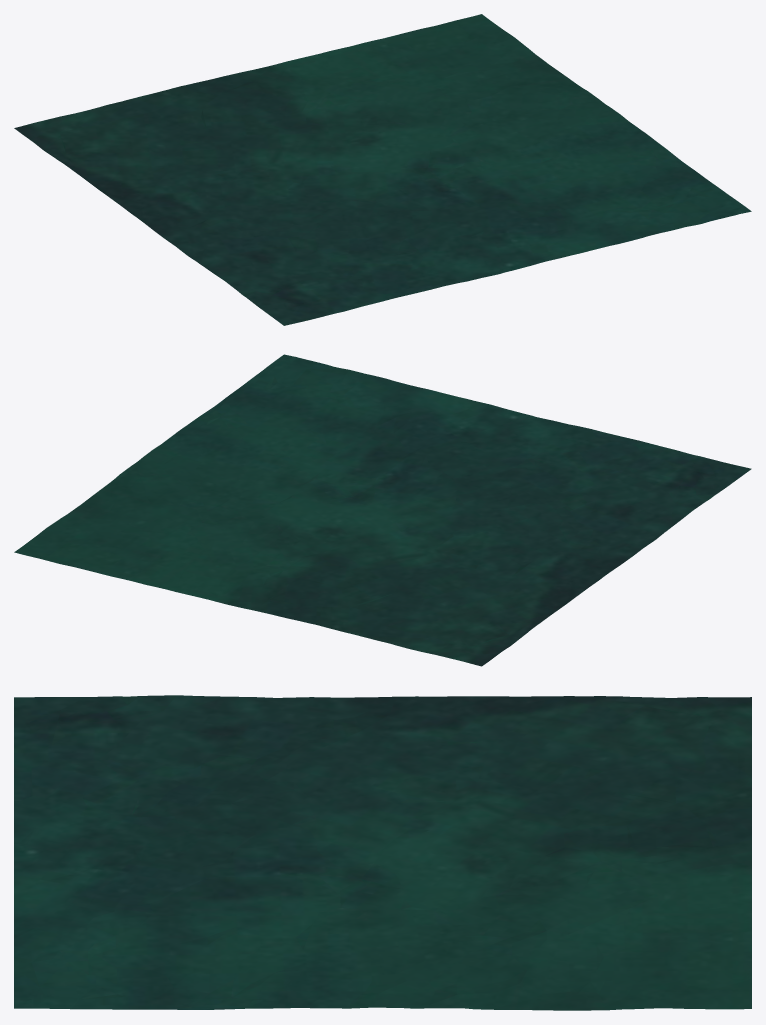
3 renders of one model, top to bottom at view 1: azimuth 30°, elevation 25°; view 2: azimuth 150°, elevation 25°; view 3: azimuth 270°, elevation 25°, orthographic. The views are drawn at different scales.
Size of the model in its own units: 104 by 0.7095 by 104.
Materials: 2 (2 with a texture image).
